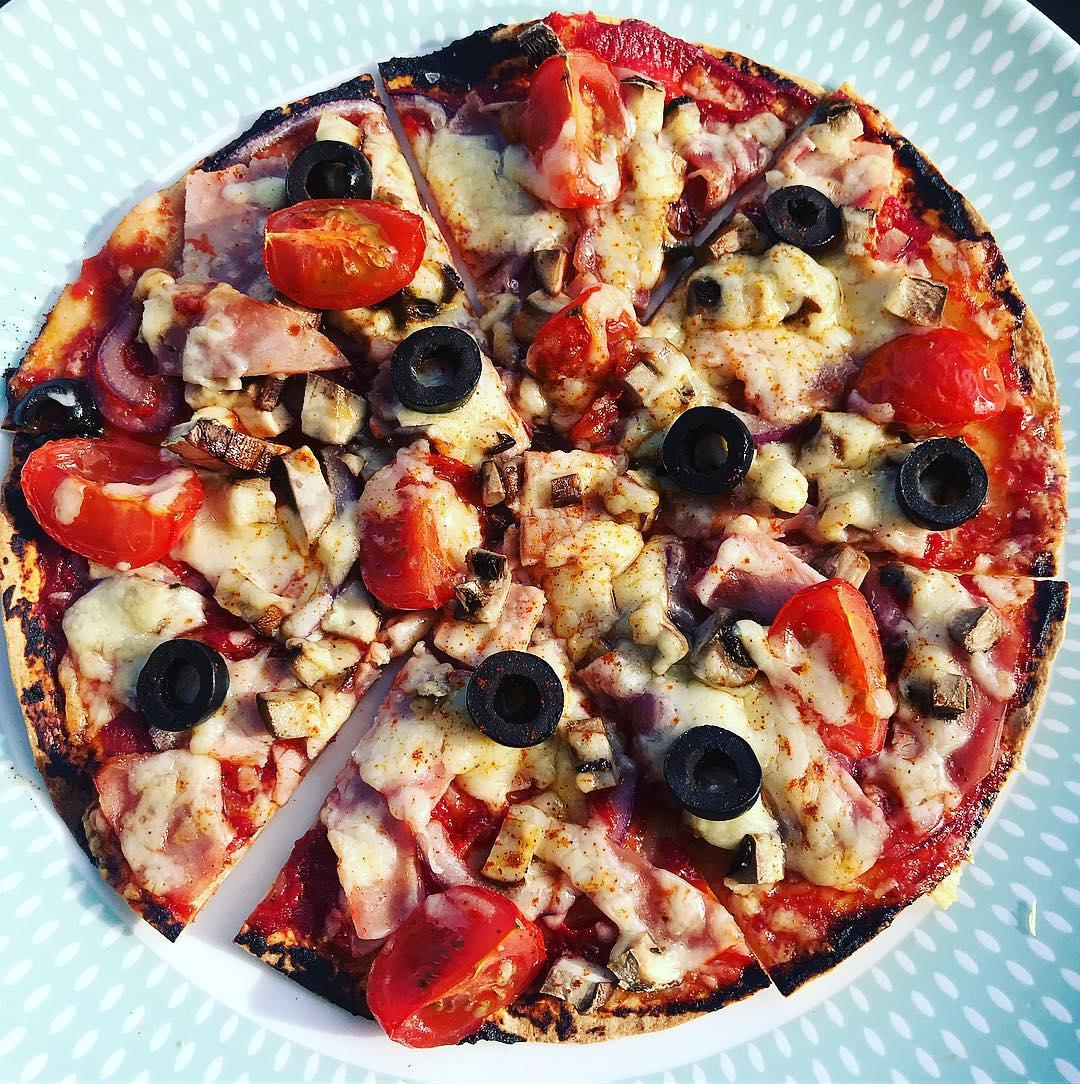Ham: (559, 819, 738, 986), (174, 146, 291, 307), (180, 298, 361, 390), (698, 508, 826, 627), (320, 808, 433, 942), (726, 328, 849, 425), (515, 449, 607, 572)
Mushroom: (218, 568, 332, 657), (617, 66, 714, 149), (476, 795, 556, 894), (469, 425, 530, 548), (688, 607, 764, 699), (280, 437, 343, 547), (195, 415, 298, 474), (629, 593, 691, 691), (301, 371, 376, 451), (886, 263, 959, 341), (506, 236, 577, 312), (730, 825, 798, 904), (566, 701, 613, 810), (467, 302, 532, 378), (897, 664, 977, 723), (463, 538, 511, 636), (533, 958, 618, 1013), (409, 248, 471, 318), (811, 535, 878, 597), (262, 688, 332, 747), (949, 592, 1007, 660), (811, 87, 870, 153), (680, 256, 736, 323), (515, 403, 577, 452), (544, 466, 596, 517)
Olives: (141, 625, 233, 744), (664, 719, 763, 828), (389, 322, 490, 427), (661, 400, 757, 504), (898, 427, 992, 530), (277, 128, 380, 212), (757, 180, 854, 260), (20, 371, 101, 452)
Pizza: (15, 8, 1071, 1039)
Tomatoes: (370, 876, 550, 1046), (21, 431, 203, 577), (771, 577, 894, 760), (256, 186, 428, 311), (520, 39, 632, 222), (858, 326, 1014, 433)
